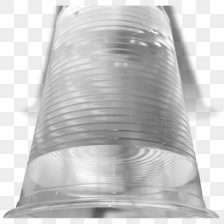glass: (2, 2, 219, 221)
